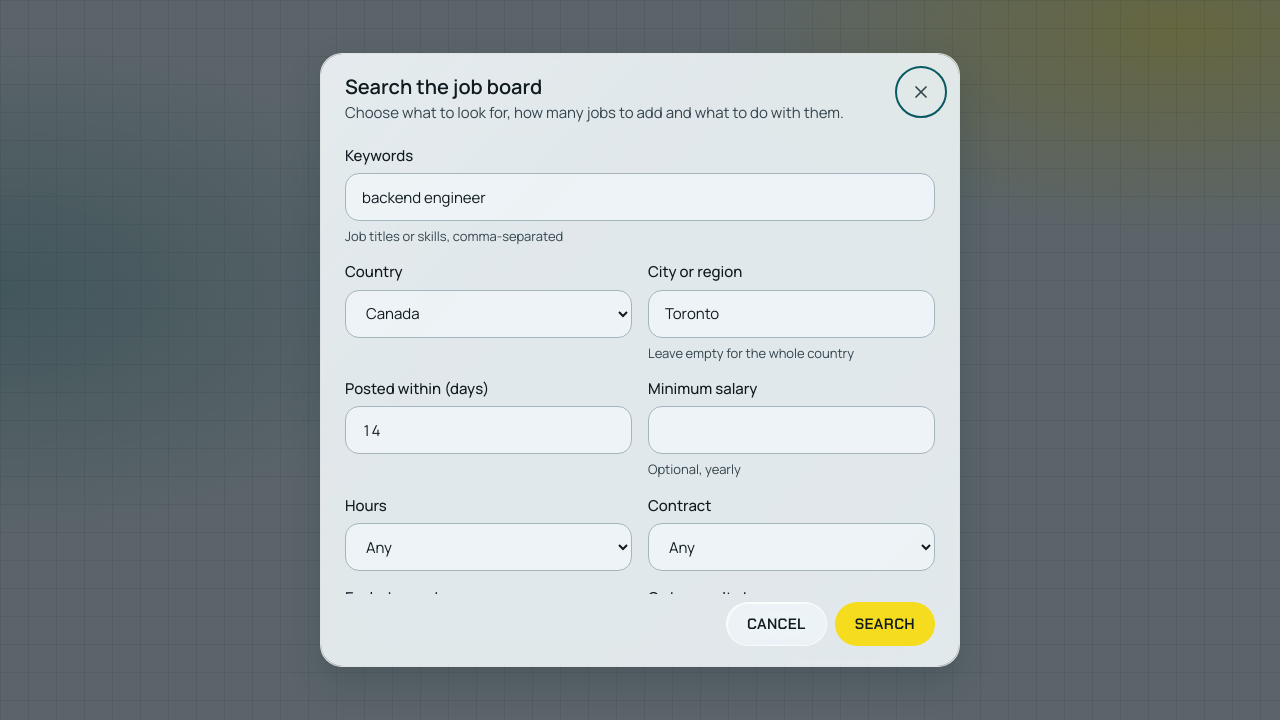
Test: SearchSheet › keeps the sheet open and shows the reason when the search is refused
Step 1. Click the button "Search" → (885, 624), box 835,602 -> 935,646
(page scrolled)
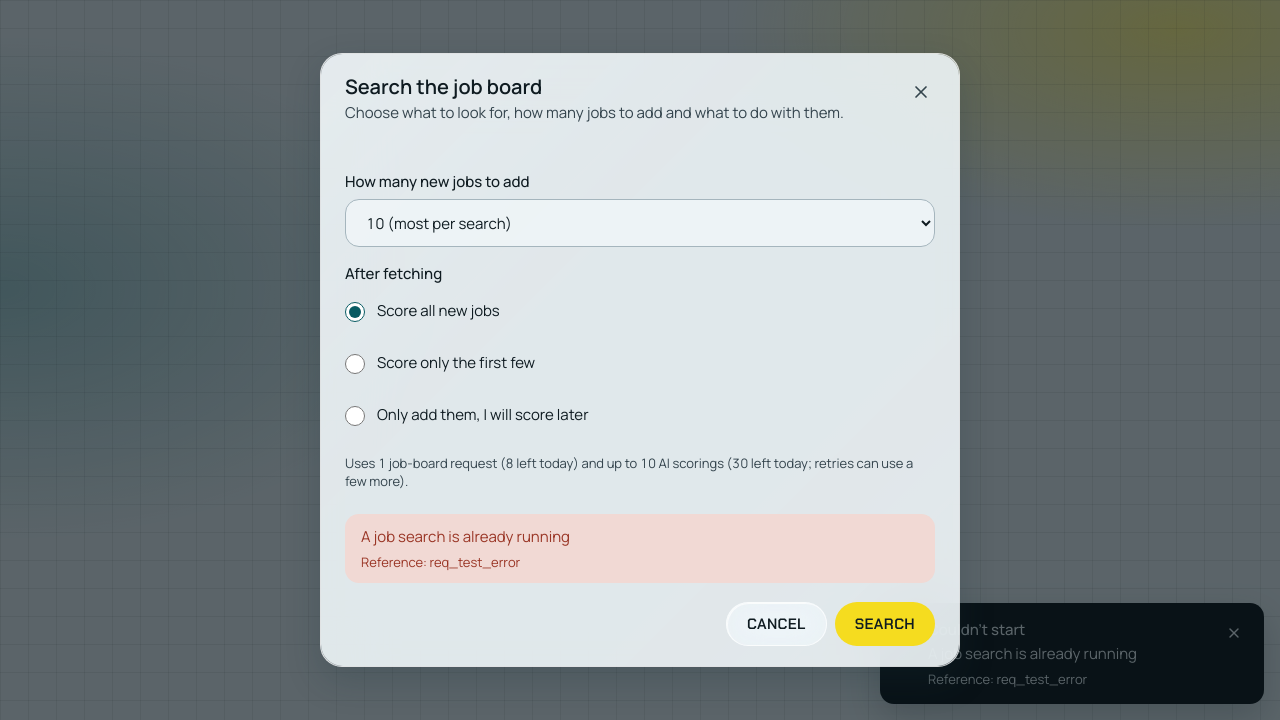
Check: the text "A job search is already running" is shown, box 361,526 -> 570,547
